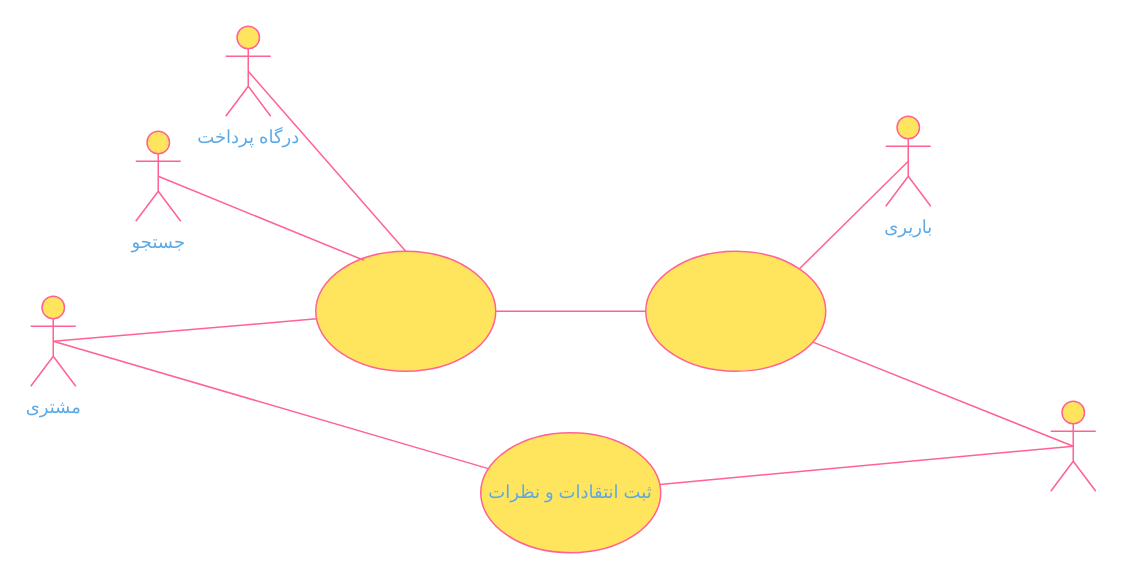
Image size: 1133x579. Some labels were removed from this diagram. The box of each missing label's shape, as (x1, y1, x2, y2) in pixels:
Provider: (1049, 400, 1096, 491)
بررسی خدمات: (644, 250, 826, 371)
درخواست و انتخاب و لغو خدمات: (314, 250, 496, 371)
